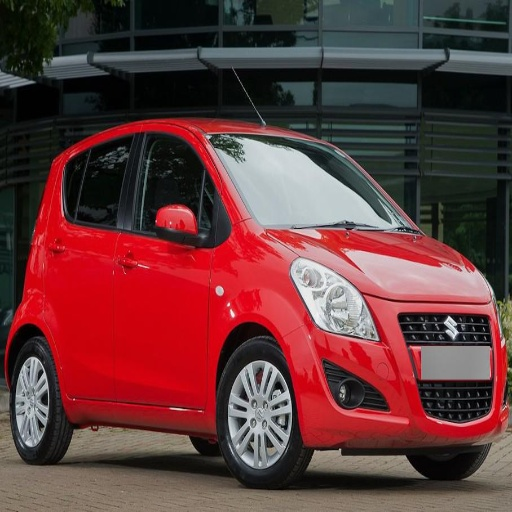front_bumper: (287, 295, 511, 447)
front_right_door: (116, 130, 224, 407)
front_right_light: (291, 256, 383, 342)
